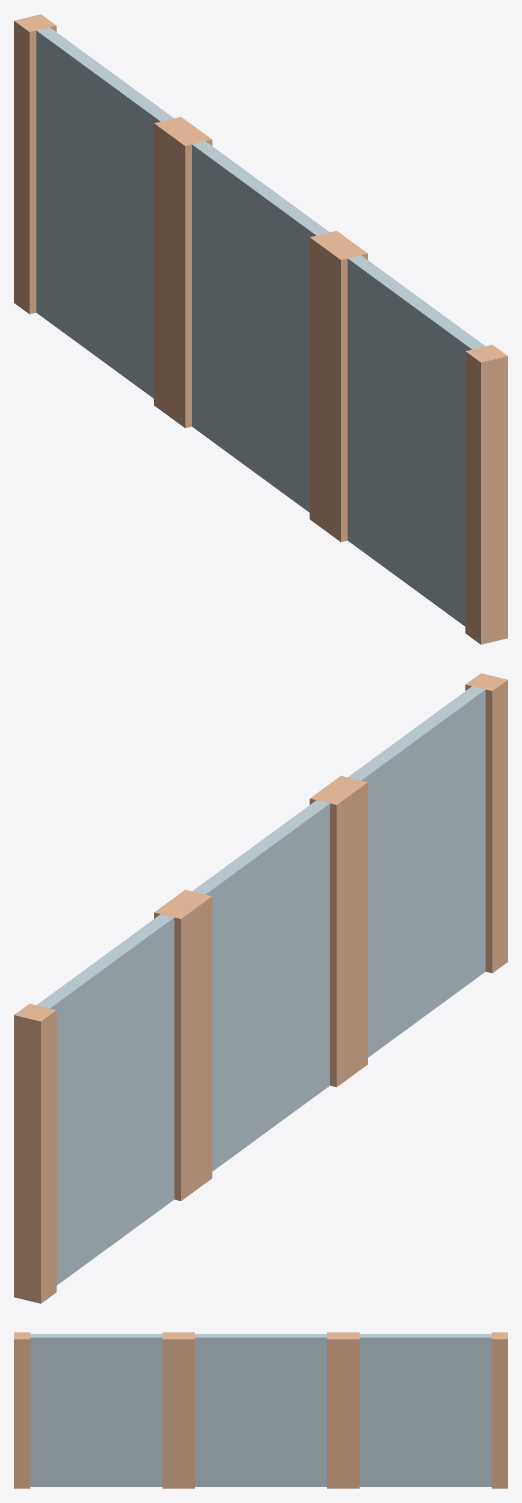
File: wall_no_door.glb
3 renders of one model, top to bottom at view 1: azimuth 30°, elevation 25°; view 2: azimuth 150°, elevation 25°; view 3: azimuth 270°, elevation 25°, orthographic. The views are drawn at different scales.
Parts seen in each view (by area): view 1: wall.002; view 2: wall.002; view 3: wall.002.
Boxes of the visible parts, x1,y1,x2,y2 form: wall.002: [14, 14, 507, 644]; wall.002: [14, 673, 507, 1303]; wall.002: [14, 1332, 507, 1488].
Size of the model in its own units: 0.1 by 1 by 3.
